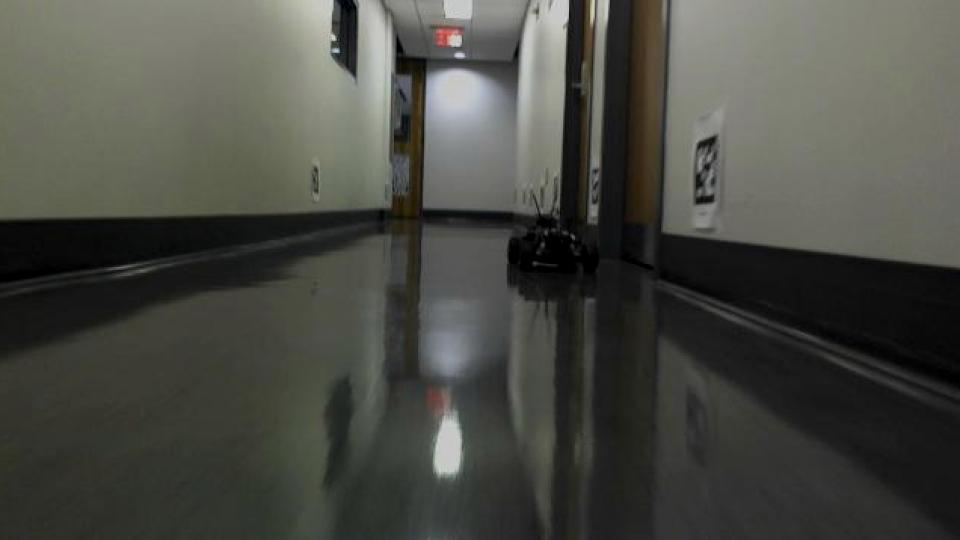car: (504, 187, 602, 278)
